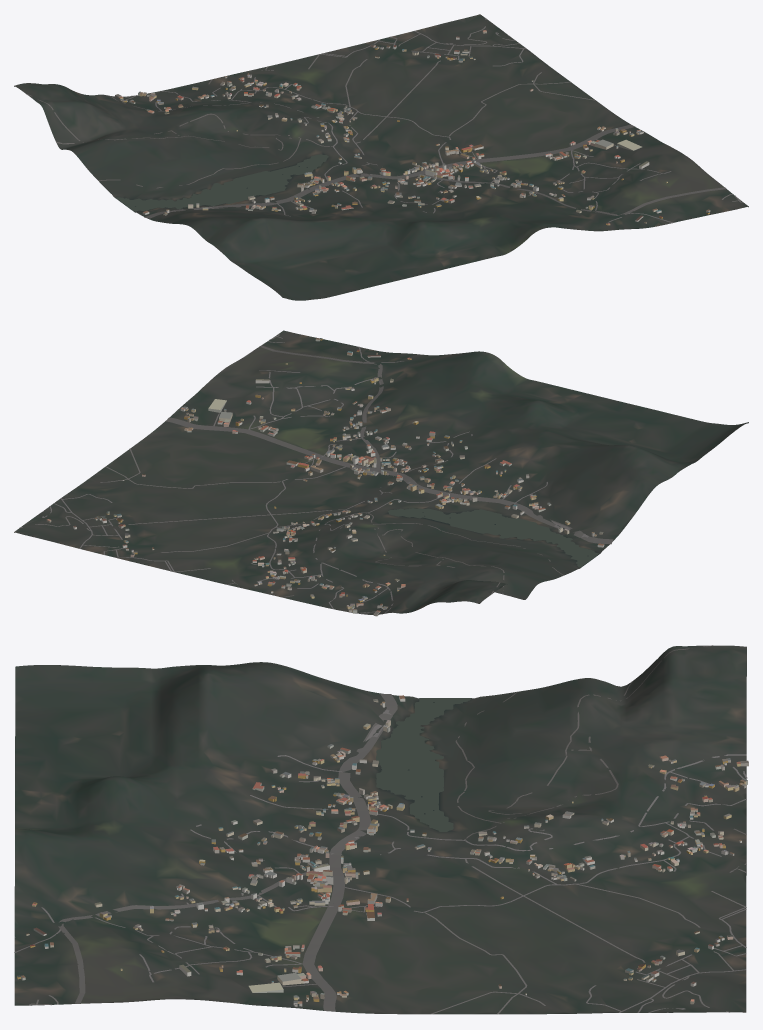
3 renders of one model, top to bottom at view 1: azimuth 30°, elevation 25°; view 2: azimuth 150°, elevation 25°; view 3: azimuth 270°, elevation 25°, orthographic. The views are drawn at different scales.
Parts seen in each view (by area): view 1: ground, buildings, roads, water; view 2: ground, buildings, roads, water; view 3: ground, buildings, roads, water.
Boxes of the visible parts, x1,y1,x2,y2 form: ground: (14,14,748,300); buildings: (115,30,710,225); roads: (26,18,743,227); water: (115,154,328,211); ground: (14,330,748,614); buildings: (46,338,604,616); roads: (19,334,613,614); water: (388,508,599,567); ground: (14,645,746,1014); buildings: (17,695,748,1006); roads: (14,645,747,1014); water: (375,698,471,831).
Size of the model in its own units: 1406 by 132 by 1408.
